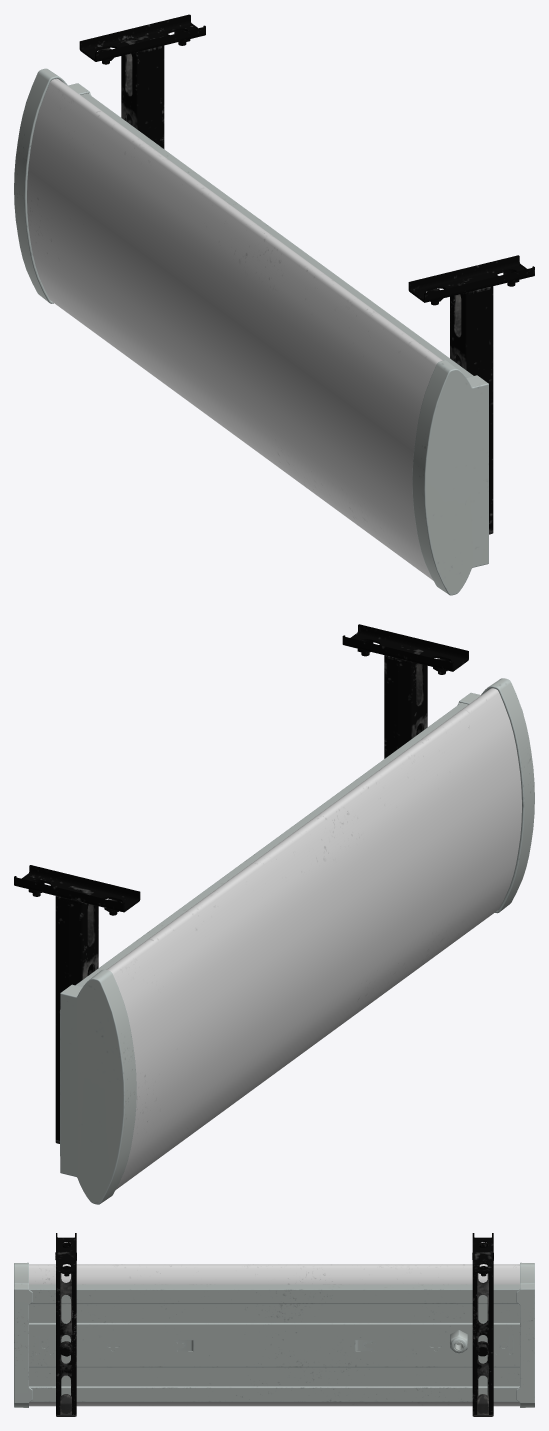
3 renders of one model, top to bottom at view 1: azimuth 30°, elevation 25°; view 2: azimuth 150°, elevation 25°; view 3: azimuth 270°, elevation 25°, orthographic. The views are drawn at different scales.
Visible parts, largest first — view 1: AM218_025_Warning Board; view 2: AM218_025_Warning Board; view 3: AM218_025_Warning Board.
Part boxes in pixels (bbox=[...]): AM218_025_Warning Board: bbox=[14, 14, 534, 595]; AM218_025_Warning Board: bbox=[14, 624, 534, 1204]; AM218_025_Warning Board: bbox=[14, 1233, 534, 1416].
Bounding box in the file's own units: 13.25 × 24.33 × 65.57.
Materials: 1 (1 with a texture image).
